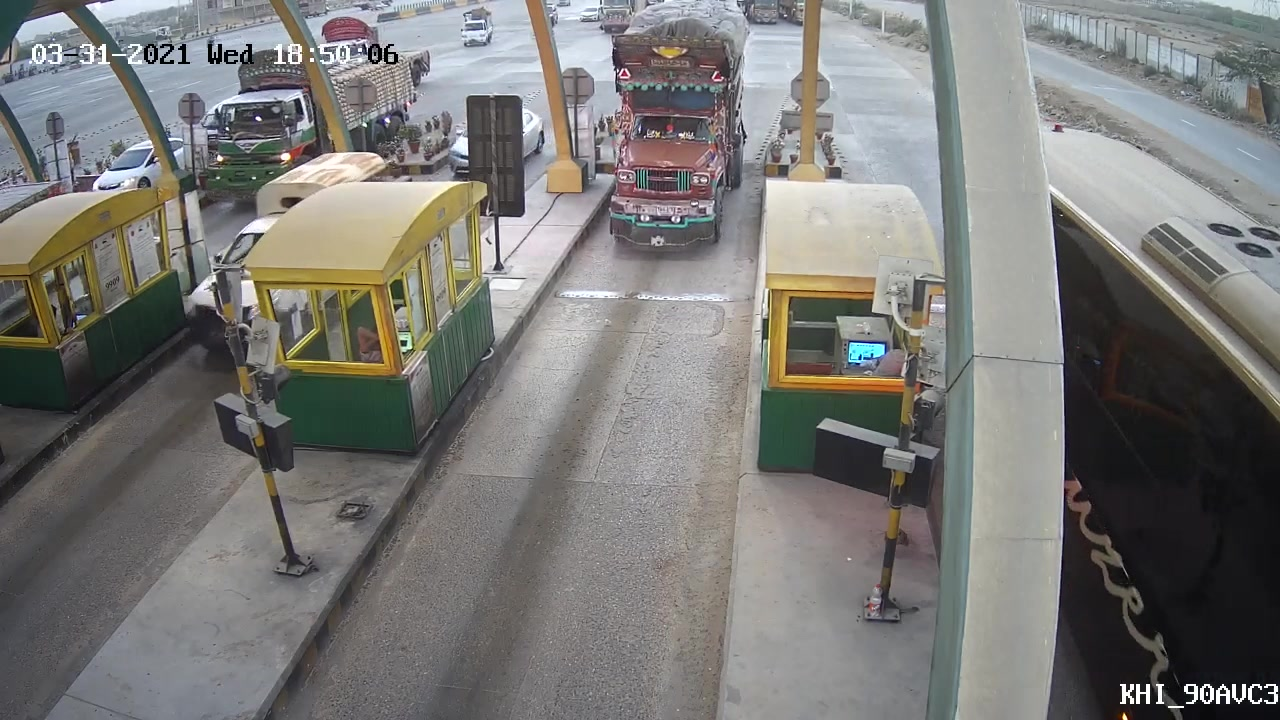F5: (590, 12, 751, 256)
